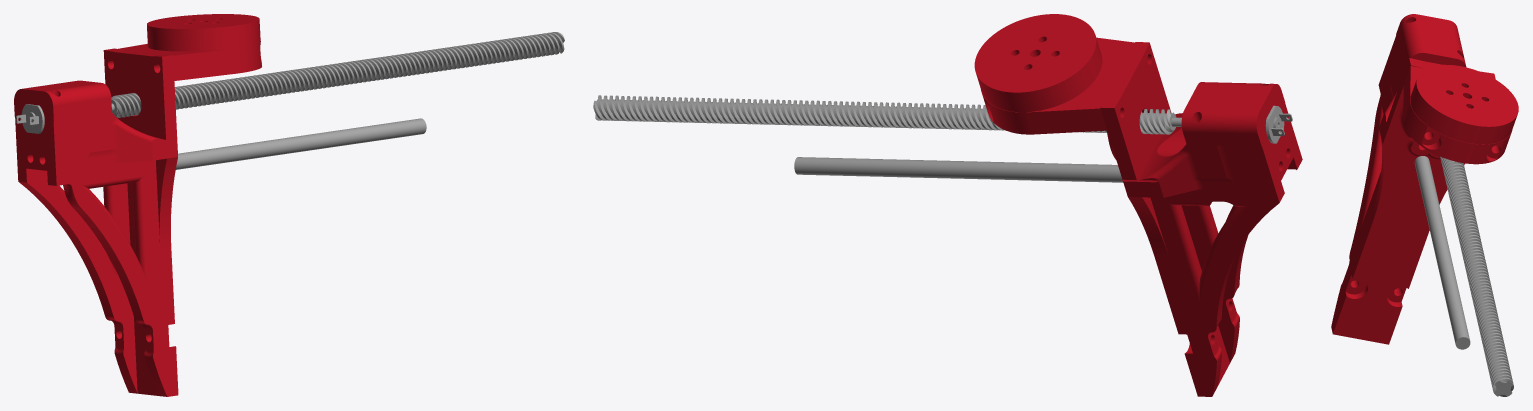
Rendered from Link6_Gripper.dae.
The picture shows the model from 3 angles, left to right: view 1: azimuth 30°, elevation 25°; view 2: azimuth 150°, elevation 25°; view 3: azimuth 270°, elevation 25°; orthographic projection. The views are drawn at different scales.
Parts seen in each view (by area): view 1: Link6_Gripper; view 2: Link6_Gripper; view 3: Link6_Gripper.
Boxes of the visible parts, bbox=[...] form: Link6_Gripper: bbox=[14, 14, 564, 396]; Link6_Gripper: bbox=[593, 14, 1302, 396]; Link6_Gripper: bbox=[1331, 14, 1518, 396].
Bounding box in the file's own units: 0.2367 × 0.0698 × 0.1282.
